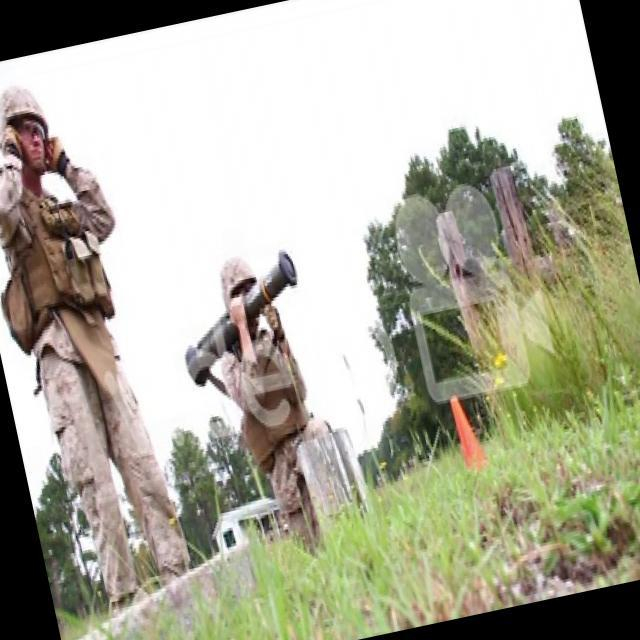rocket: (166, 243, 317, 395)
